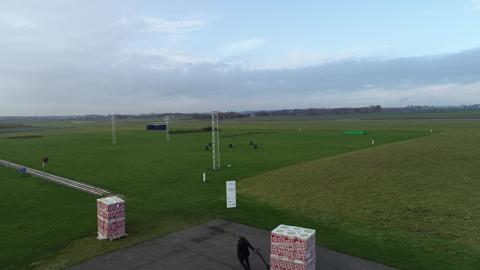RockwoolPallet: (99, 194, 126, 238)
